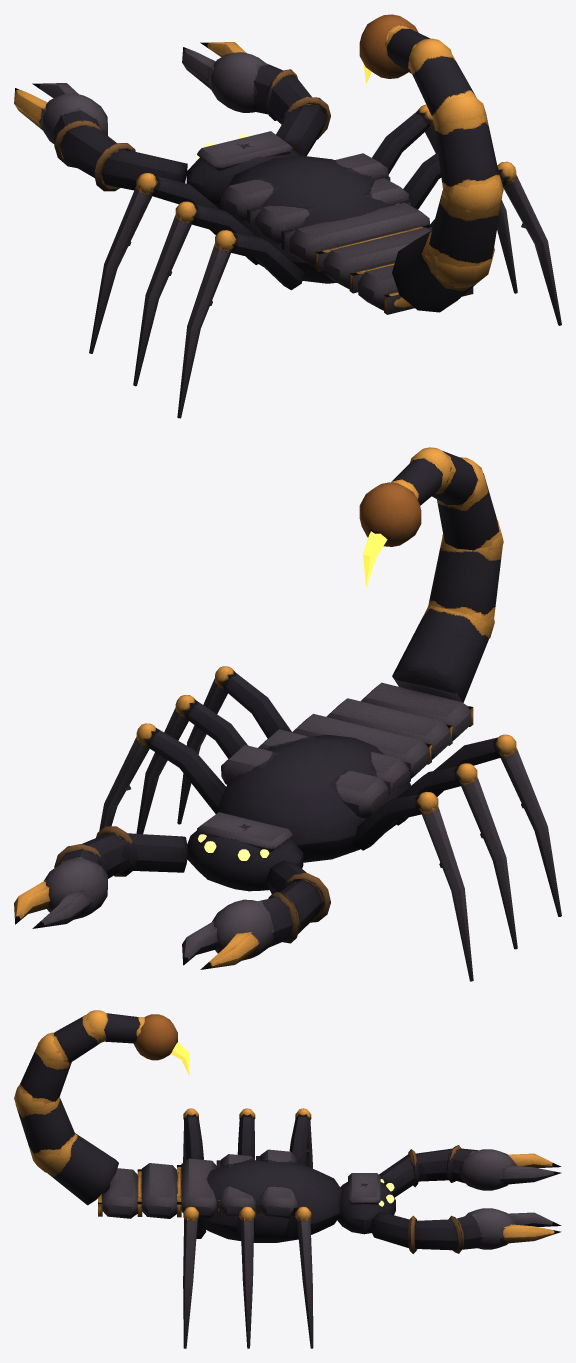
Rendered from elite_glass_scorpion.fbx.
The picture shows the model from 3 angles, top to bottom: view 1: azimuth 30°, elevation 25°; view 2: azimuth 150°, elevation 25°; view 3: azimuth 270°, elevation 25°; orthographic projection. The views are drawn at different scales.
Parts seen in each view (by area): view 1: Body, JawL, JawR, Head, Knee-1_2, Knee-1_3, Knee-1_1, Knee1_3, Leg-1_3, Leg1_1, Leg1_2, Leg-1_1 (+2 smaller); view 2: Body, JawR, JawL, Head, Knee-1_2, Knee-1_1, Knee-1_3, Leg1_1, Leg1_3, Knee1_1, Leg-1_1, Knee1_2 (+5 smaller); view 3: Body, JawR, JawL, Head, Knee1_3, Knee1_2, Knee1_1, Leg-1_1, Leg-1_3, Leg-1_2.
Boxes of the visible parts, bbox=[...] form: Body: bbox=[217, 14, 503, 314]; JawL: bbox=[14, 83, 187, 191]; JawR: bbox=[182, 42, 330, 156]; Head: bbox=[186, 131, 299, 206]; Knee-1_2: bbox=[133, 201, 197, 386]; Knee-1_3: bbox=[177, 230, 236, 418]; Knee-1_1: bbox=[89, 173, 157, 353]; Knee1_3: bbox=[497, 161, 561, 325]; Leg-1_3: bbox=[230, 232, 304, 290]; Leg1_1: bbox=[372, 109, 431, 174]; Leg1_2: bbox=[403, 152, 441, 209]; Leg-1_1: bbox=[151, 176, 220, 234]; Body: bbox=[217, 447, 503, 862]; JawR: bbox=[14, 826, 187, 928]; JawL: bbox=[182, 860, 330, 969]; Head: bbox=[187, 812, 303, 891]; Knee-1_2: bbox=[456, 763, 517, 949]; Knee-1_1: bbox=[416, 791, 473, 981]; Knee-1_3: bbox=[495, 734, 561, 916]; Leg1_1: bbox=[145, 728, 226, 813]; Leg1_3: bbox=[221, 671, 291, 738]; Knee1_1: bbox=[99, 723, 155, 831]; Leg-1_1: bbox=[352, 794, 421, 850]; Knee1_2: bbox=[136, 695, 194, 834]; Body: bbox=[14, 1010, 342, 1242]; JawR: bbox=[370, 1208, 561, 1253]; JawL: bbox=[379, 1145, 561, 1197]; Head: bbox=[337, 1173, 395, 1234]; Knee1_3: bbox=[183, 1206, 198, 1348]; Knee1_2: bbox=[239, 1206, 255, 1348]; Knee1_1: bbox=[295, 1206, 313, 1348]; Leg-1_1: bbox=[289, 1114, 310, 1165]; Leg-1_3: bbox=[184, 1114, 203, 1159]; Leg-1_2: bbox=[237, 1114, 254, 1159].
Size of the model in its own units: 686 by 641 by 1179.
Materials: 3 (1 with a texture image).
